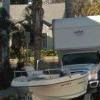Boat: (9, 52, 100, 98)
